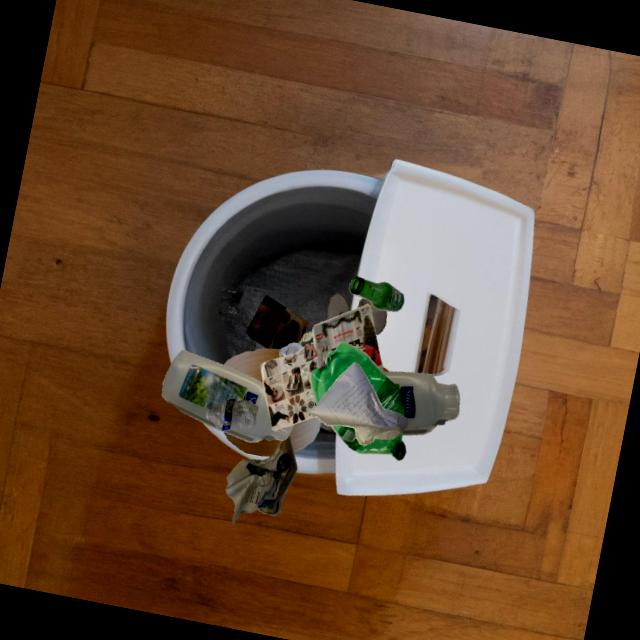cardboard: (246, 295, 309, 349), (298, 330, 313, 348)
combustible waste: (253, 378, 296, 451), (224, 349, 281, 383), (223, 432, 259, 456), (296, 417, 321, 441), (292, 441, 313, 453), (382, 363, 393, 372), (259, 451, 275, 456)
glass: (349, 276, 404, 312), (358, 298, 387, 335), (328, 293, 351, 320)
paper: (260, 304, 384, 431), (308, 362, 409, 446), (226, 434, 297, 524)
plastic: (161, 350, 294, 442), (310, 342, 405, 416), (384, 372, 459, 435), (331, 425, 406, 461), (206, 399, 258, 431), (279, 342, 303, 357)
